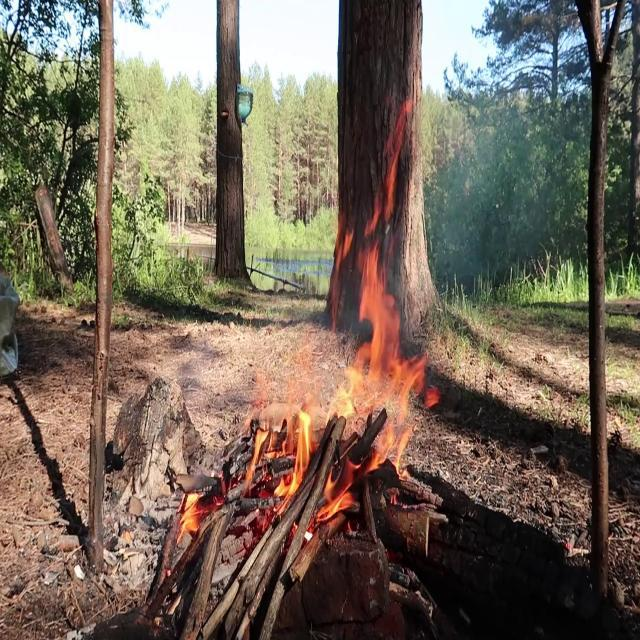Fire: (187, 212, 446, 554)
